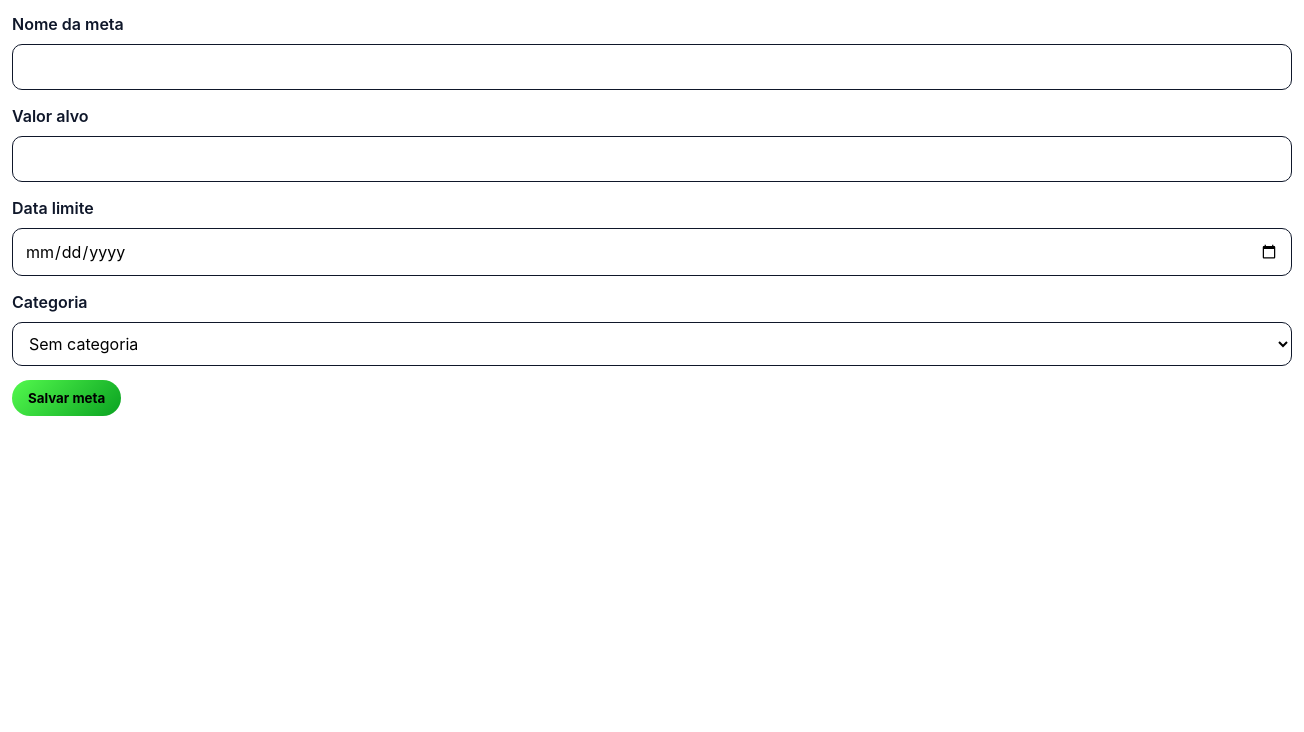
Test: GoalForm › shows validation errors when required fields are empty
Click the button "Salvar meta" at (67, 398), box [12,380,121,416]
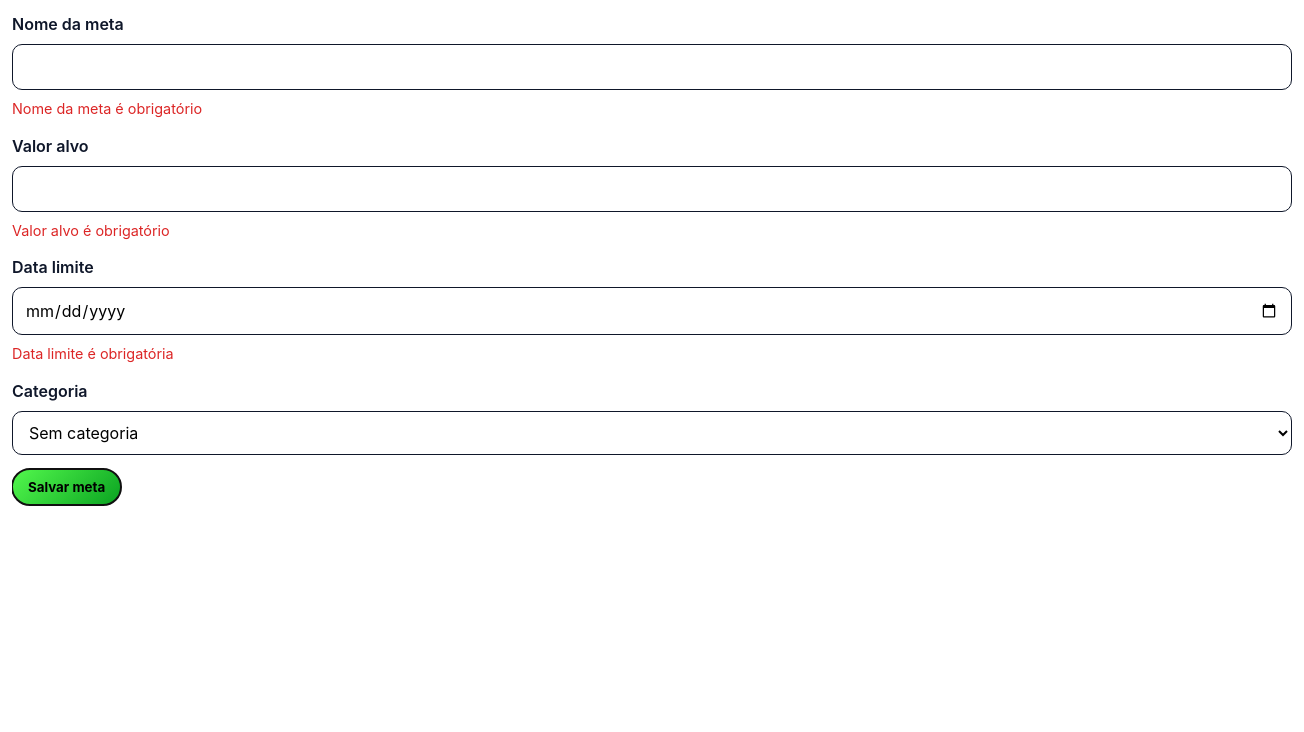
Check: the text "Nome da meta é obrigatório" is shown, box [12,100,202,117]
Check: the text "Valor alvo é obrigatório" is shown, box [12,222,170,239]
Check: the text "Data limite é obrigatória" is shown, box [12,345,174,362]
